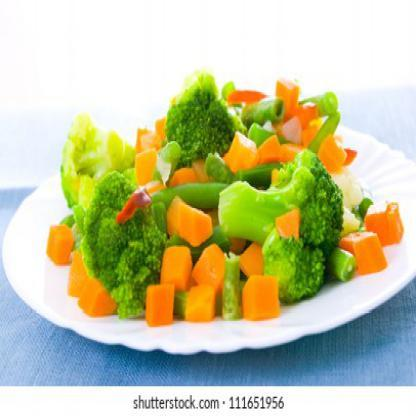broccoli: (60, 66, 360, 322)
